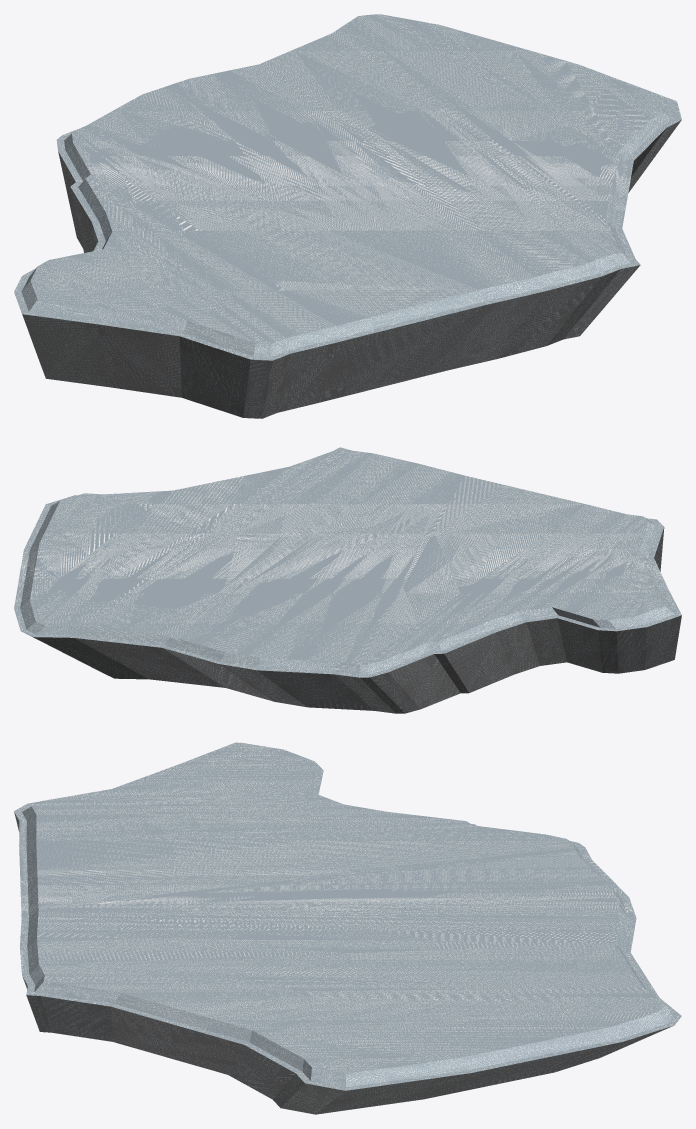
The model's file is Rock_Shelf_Snow_02.fbx.
3 views of the same model, one above another, from view 1: azimuth 30°, elevation 25°; view 2: azimuth 150°, elevation 25°; view 3: azimuth 270°, elevation 25° (orthographic). The views are drawn at different scales.
Parts seen in each view (by area): view 1: Model; view 2: Model; view 3: Model.
Part boxes in pixels (left/top/right/bottom): Model: left=14, top=14, right=681, bottom=418; Model: left=14, top=447, right=681, bottom=713; Model: left=14, top=742, right=681, bottom=1114.
Bounding box in the file's own units: 20019 × 1925 × 16214.
